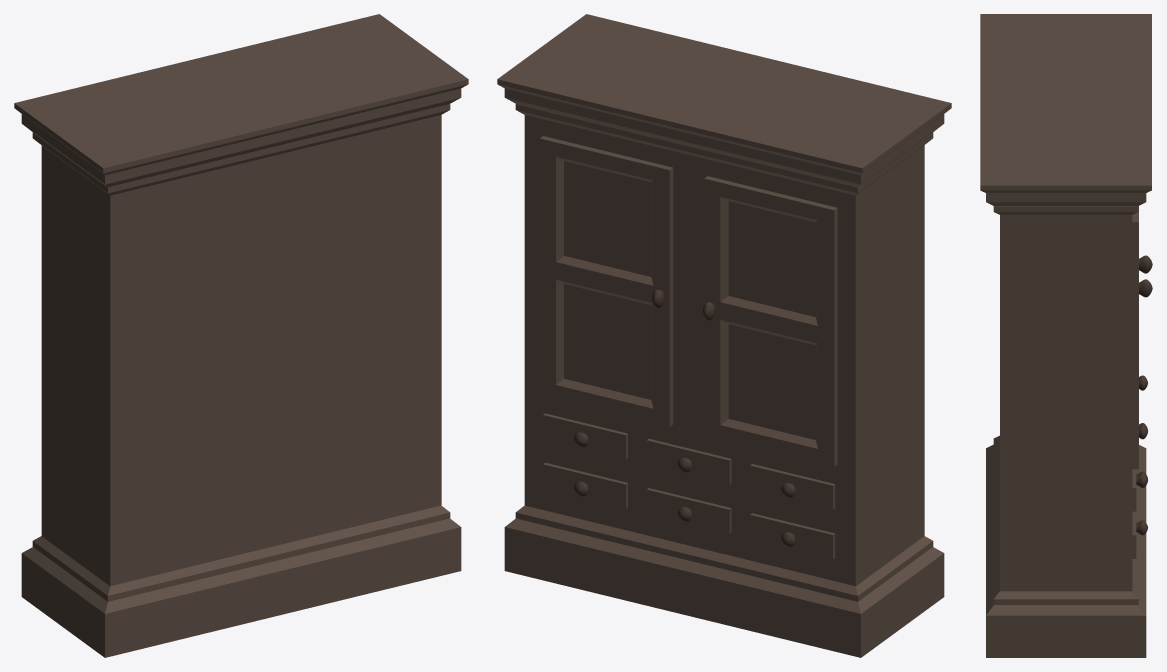
Rendered from Armoire1_6.fbx.
The picture shows the model from 3 angles, left to right: view 1: azimuth 30°, elevation 25°; view 2: azimuth 150°, elevation 25°; view 3: azimuth 270°, elevation 25°; orthographic projection. The views are drawn at different scales.
Parts seen in each view (by area): view 1: pCube2399, pCube2398, pCube2402, pCube2401, pCube2400, pCube2397; view 2: pCube2399, pCube2398, pCube2422, pCube2425, pCube2402, pCube2401, pCube2400, pCube2397, pCube2417, pCube2415, pCube2418, pCube2416 (+2 smaller); view 3: pCube2399, pCube2398, pCube2402, pCube2401, pCube2400, pCube2422, pCube2397.
Boxes of the visible parts, x1,y1,x2,y2 form: pCube2399: (41, 115, 441, 586); pCube2398: (14, 14, 468, 174); pCube2402: (21, 518, 461, 657); pCube2401: (32, 505, 450, 601); pCube2400: (21, 88, 461, 187); pCube2397: (32, 104, 450, 195); pCube2399: (524, 115, 924, 586); pCube2398: (497, 14, 951, 174); pCube2422: (539, 136, 673, 426); pCube2425: (704, 176, 837, 466); pCube2402: (504, 518, 944, 657); pCube2401: (515, 505, 933, 601); pCube2400: (504, 88, 944, 187); pCube2397: (515, 104, 933, 195); pCube2417: (750, 513, 835, 559); pCube2415: (646, 438, 731, 484); pCube2418: (646, 488, 731, 534); pCube2416: (750, 464, 835, 510); pCube2399: (1000, 215, 1132, 591); pCube2398: (980, 14, 1151, 192); pCube2402: (986, 444, 1146, 657); pCube2401: (993, 435, 1138, 604); pCube2400: (986, 193, 1146, 205); pCube2422: (1132, 206, 1138, 469); pCube2397: (993, 206, 1138, 214).
Bounding box in the file's own units: 91.15 × 118 × 38.72.
